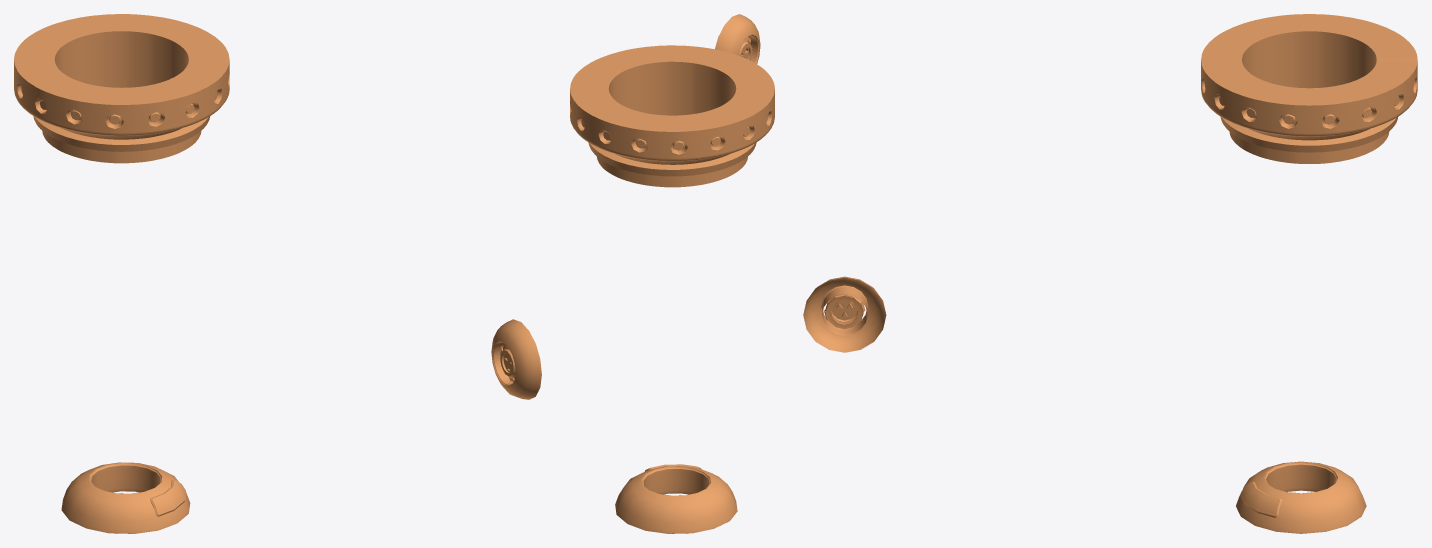
Rendered from Cylendrical_greeble_01.fbx.
3 views of the same model, side by side, from view 1: azimuth 30°, elevation 25°; view 2: azimuth 150°, elevation 25°; view 3: azimuth 270°, elevation 25° (orthographic). The views are drawn at different scales.
Parts seen in each view (by area): view 1: Cylendrical_greeble_01; view 2: Cylendrical_greeble_01; view 3: Cylendrical_greeble_01.
Part boxes in pixels (<box>): Cylendrical_greeble_01: <box>14,14,541,533</box>; Cylendrical_greeble_01: <box>570,14,774,533</box>; Cylendrical_greeble_01: <box>803,14,1417,533</box>.
Bounding box in the file's own units: 15.97 × 25.9 × 32.3.
